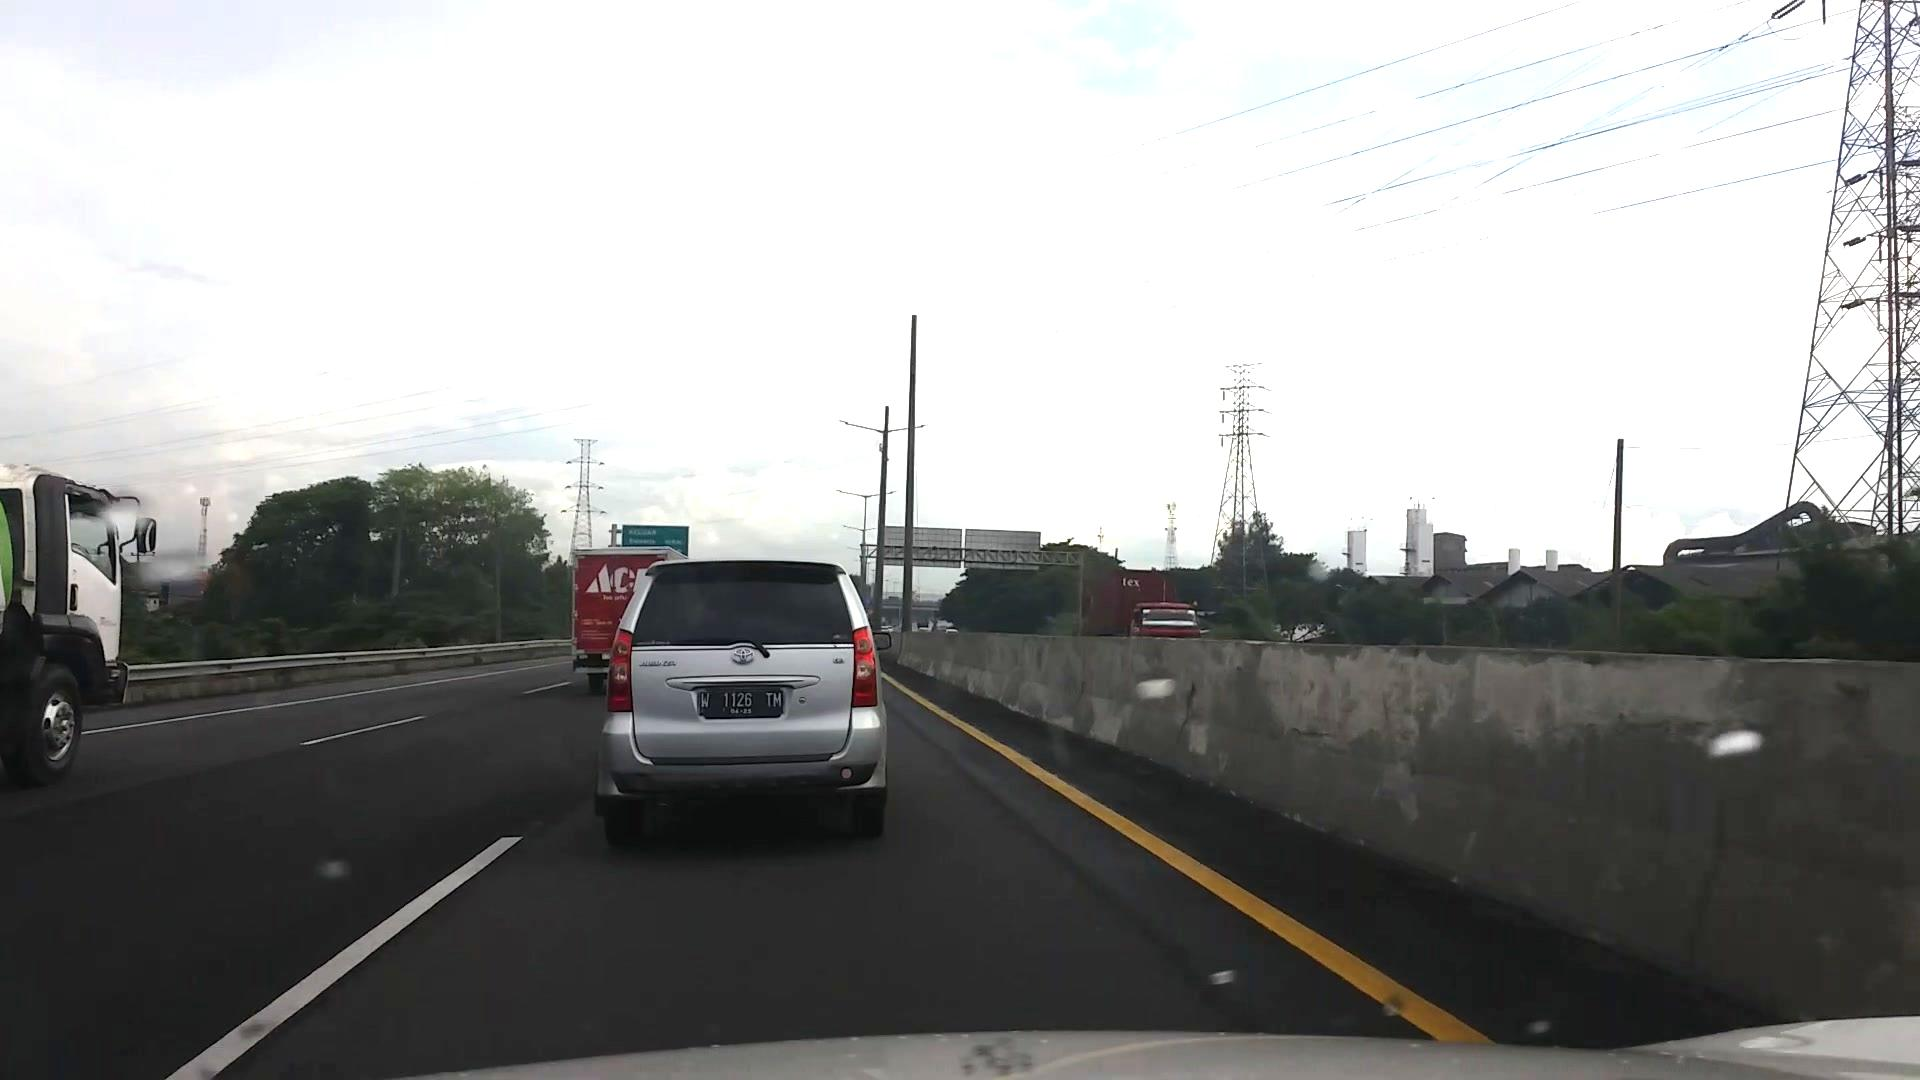plate_positive: (698, 688, 783, 717)
